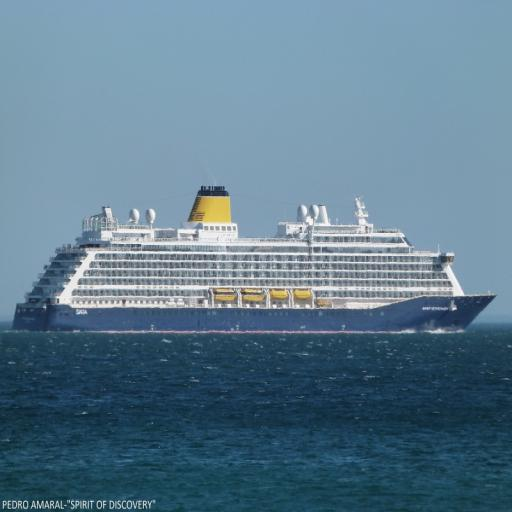cruises: (10, 185, 500, 342)
